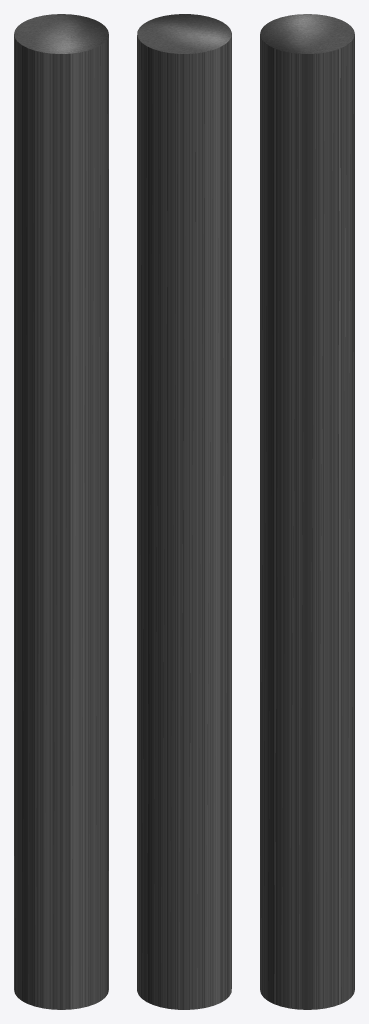
File: Pillar2.obj
3 views of the same model, side by side, from view 1: azimuth 90°, elevation 25°; view 2: azimuth 150°, elevation 25°; view 3: azimuth 270°, elevation 25° (orthographic).
Visible parts, largest first — view 1: Cylinder.002; view 2: Cylinder.002; view 3: Cylinder.002.
Part boxes in pixels (bbox=[...]): Cylinder.002: bbox=[14, 14, 108, 1009]; Cylinder.002: bbox=[137, 14, 231, 1009]; Cylinder.002: bbox=[260, 14, 354, 1009].
Bounding box in the file's own units: 2.25 × 25 × 2.25.
